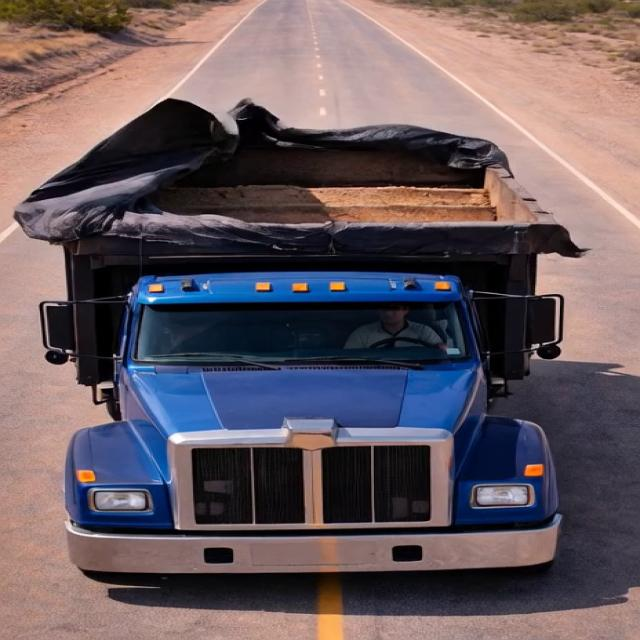Box: (9, 95, 581, 263)
Truck: (4, 47, 587, 590)
